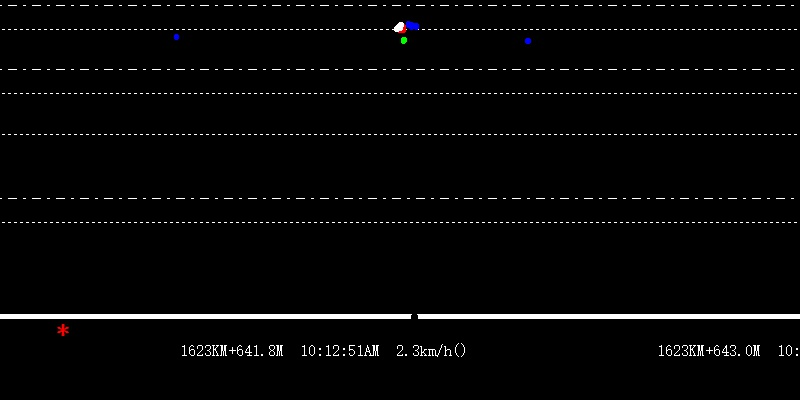face_1: (406, 17, 422, 33)
face_s: (392, 17, 405, 32)
star: (54, 321, 72, 339)
